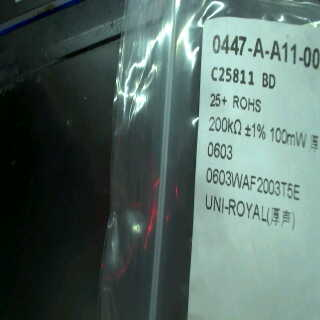200kR: (203, 114, 244, 139)
